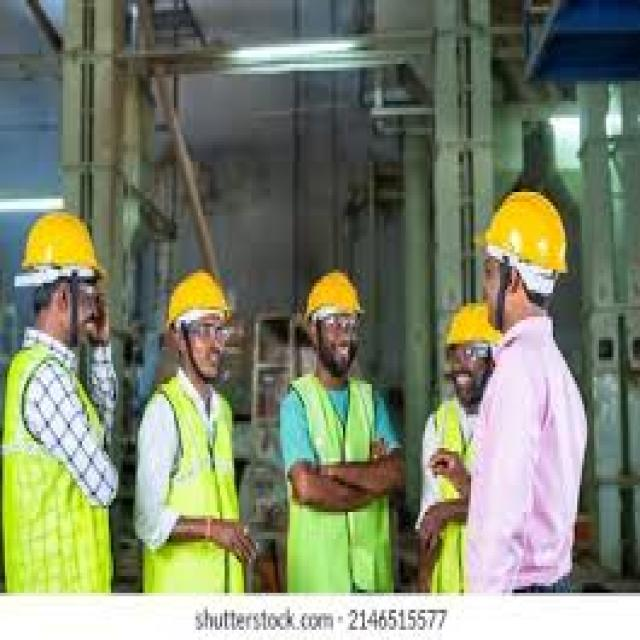Reflective-Jacket: (0, 337, 118, 593), (282, 370, 398, 593), (140, 370, 249, 572), (416, 388, 510, 562)
Safety-Helmet: (466, 178, 582, 296), (7, 199, 116, 296), (157, 260, 239, 340), (432, 290, 512, 370), (297, 260, 374, 334)
